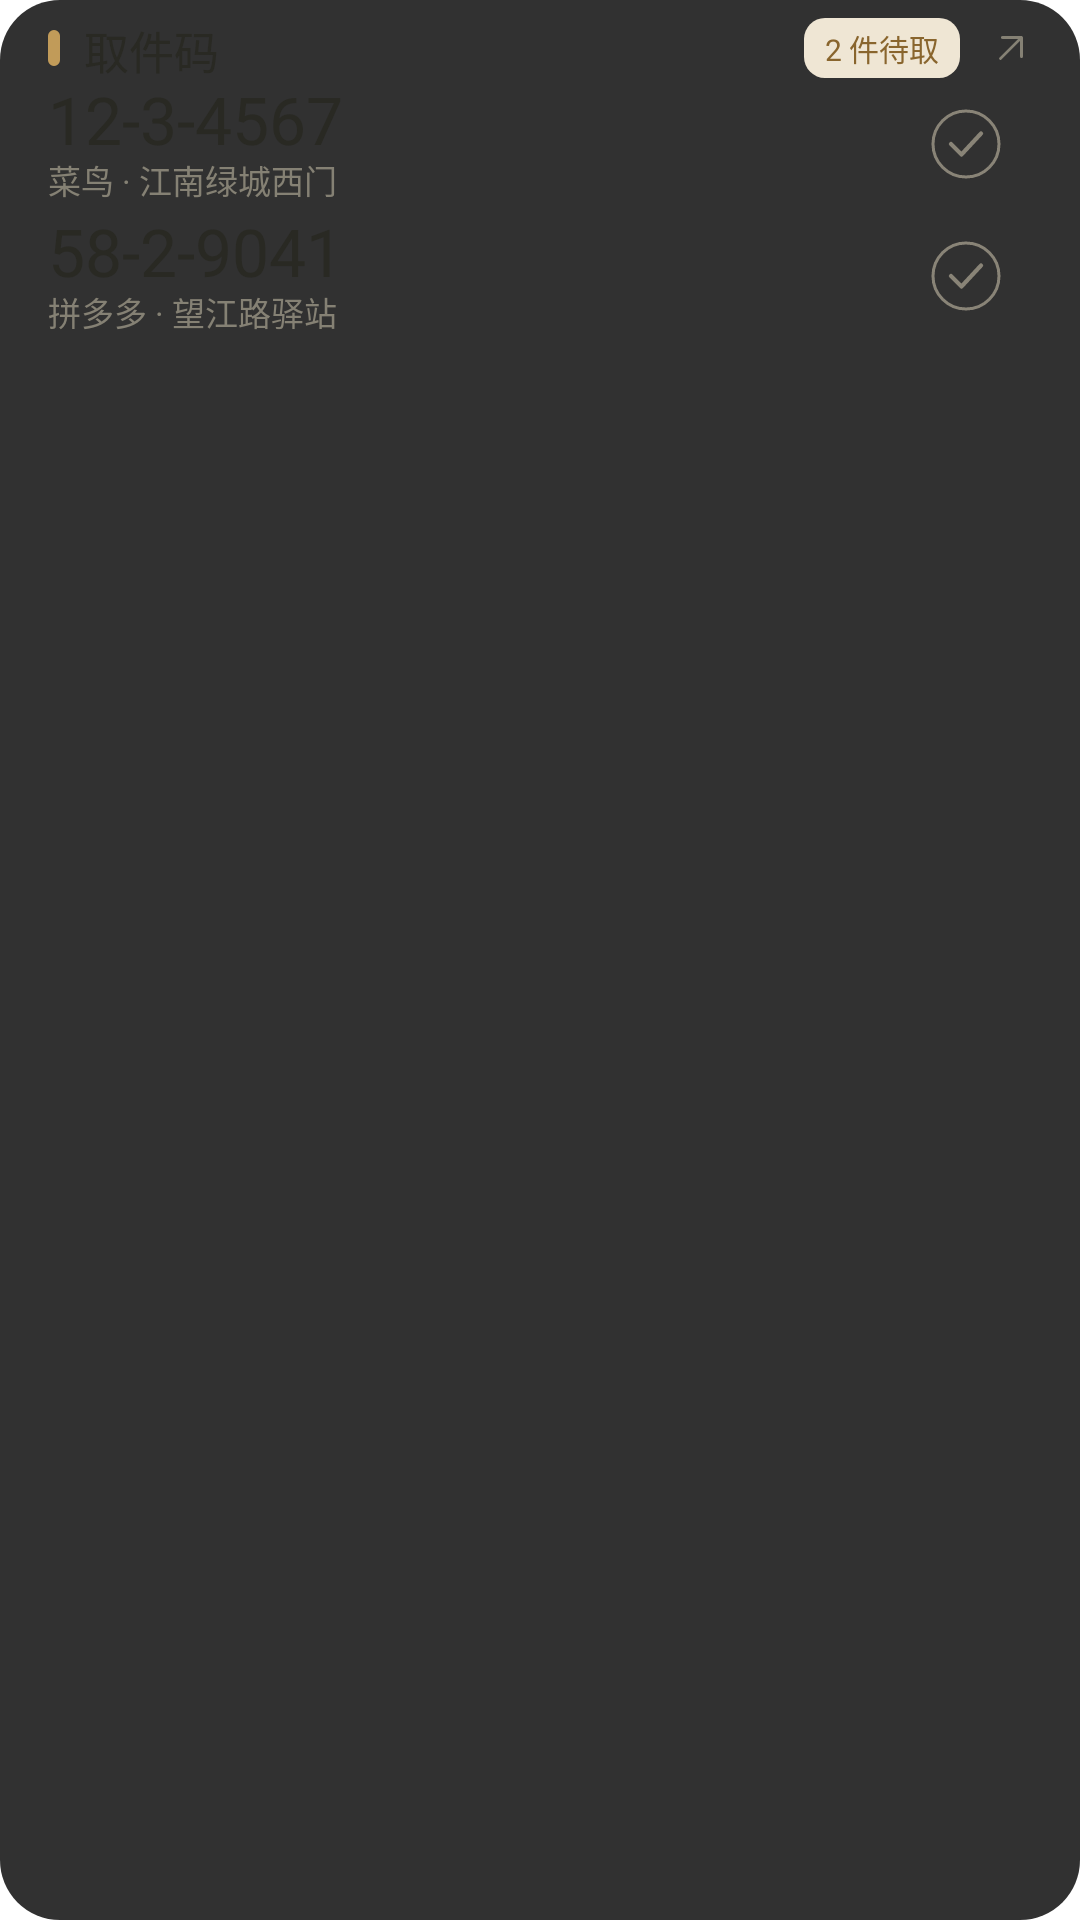

Locate icon controls on the screen. Image size 1080*1920, boxes as rect(x1, y1, x2, y2).
widget open: rect(999, 36, 1023, 60)
标记已取件: rect(931, 109, 1001, 179), rect(931, 241, 1001, 311)
